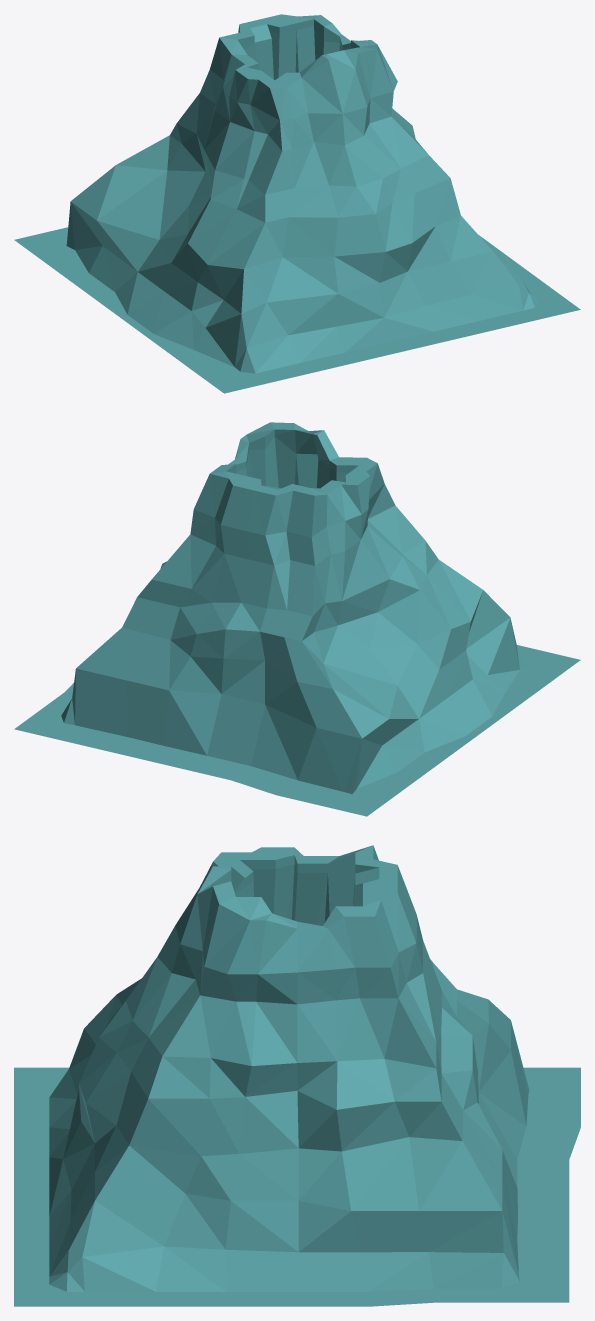
Rendered from Rock_Volcano_01.fbx.
The picture shows the model from 3 angles, top to bottom: view 1: azimuth 30°, elevation 25°; view 2: azimuth 150°, elevation 25°; view 3: azimuth 270°, elevation 25°; orthographic projection. The views are drawn at different scales.
Parts seen in each view (by area): view 1: Volcano; view 2: Volcano; view 3: Volcano.
Boxes of the visible parts, bbox=[...] form: Volcano: bbox=[14, 14, 580, 393]; Volcano: bbox=[14, 422, 580, 816]; Volcano: bbox=[14, 845, 580, 1306].
Size of the model in its own units: 1071 by 686 by 1093.
